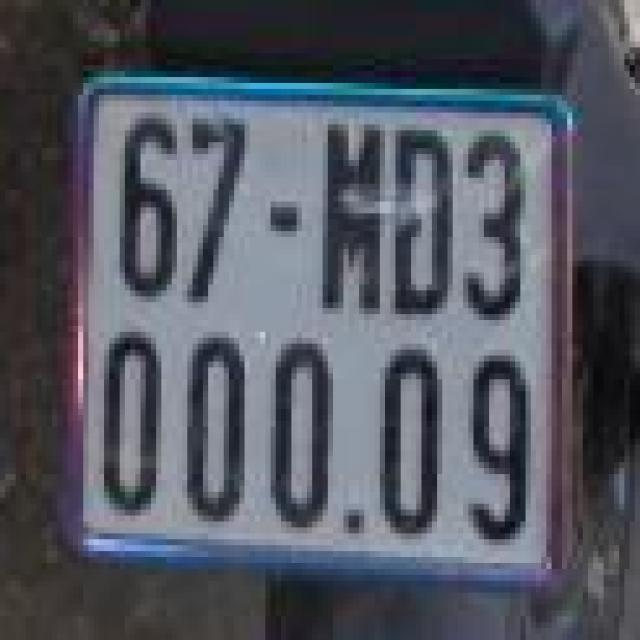0: (370, 341, 448, 548), (177, 326, 250, 539), (88, 329, 166, 524), (271, 335, 333, 530)
3: (458, 115, 531, 335)
4: (109, 110, 182, 305)
7: (187, 110, 255, 299)
9: (458, 344, 536, 557)
D: (393, 113, 460, 326)
M: (299, 95, 388, 314)
